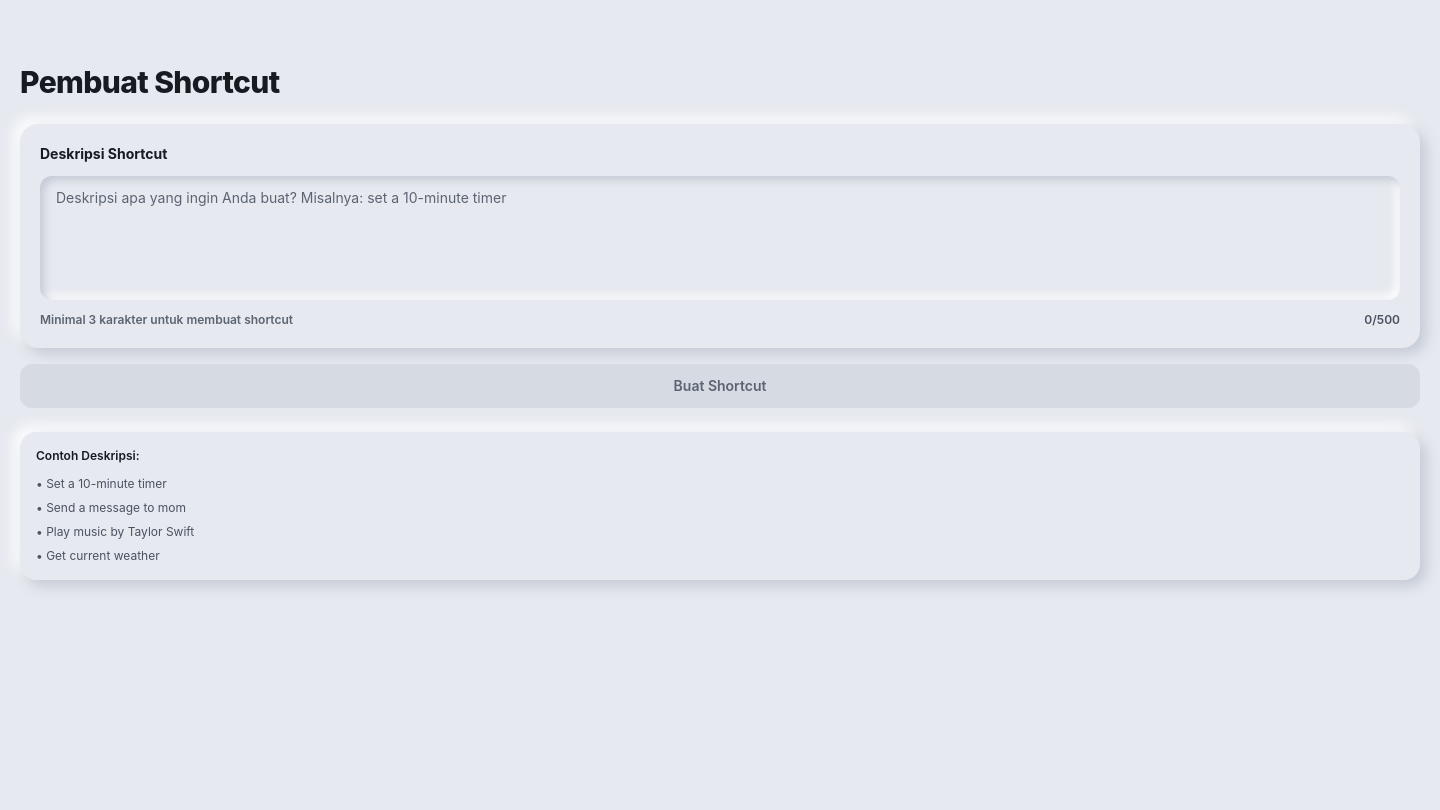
Test: ShortcutsScreen - E2E Frontend Tests › 1. Happy Path: Valid Shortcut Generation › says an unsigned file cannot be installed directly
Type "set a timer" into the text box with placeholder "Deskripsi apa". click: {"x": 720, "y": 238}
box: [40,176,1400,300]
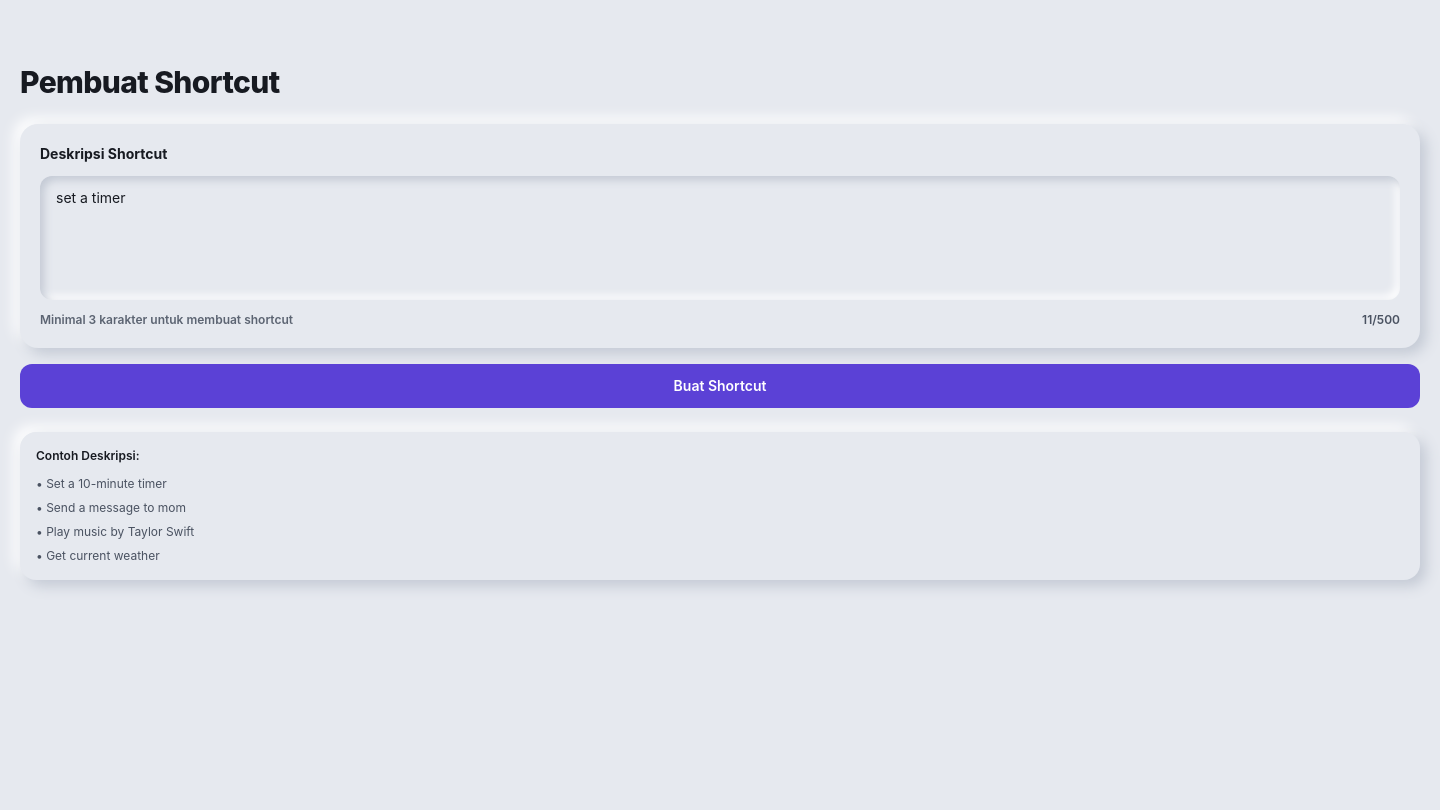
Click the button "Buat Shortcut". click: {"x": 720, "y": 386}
box: [20,364,1420,408]
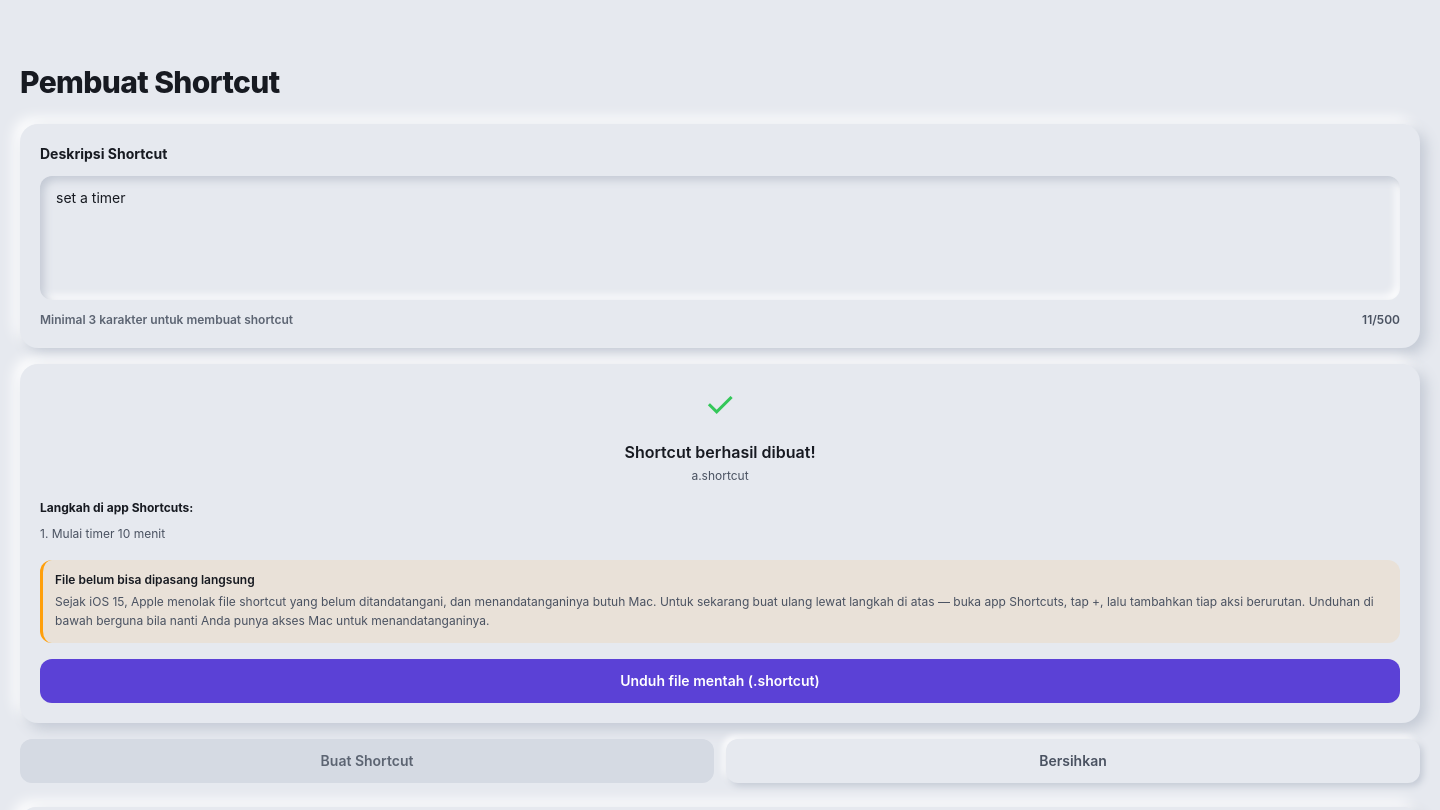
Result: the text "File belum bisa dipasang langsung" is shown at [55,572,255,586]
